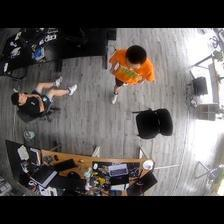normal: (106, 44, 157, 105), (12, 75, 80, 116)
